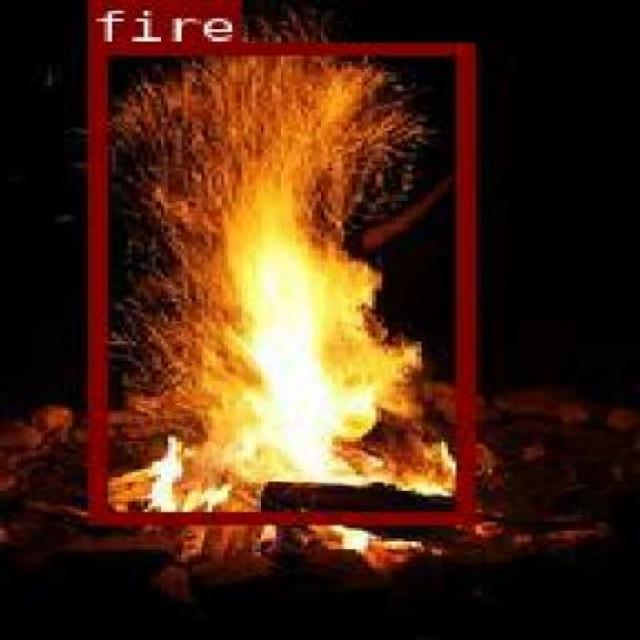Fire: (86, 41, 472, 521)
